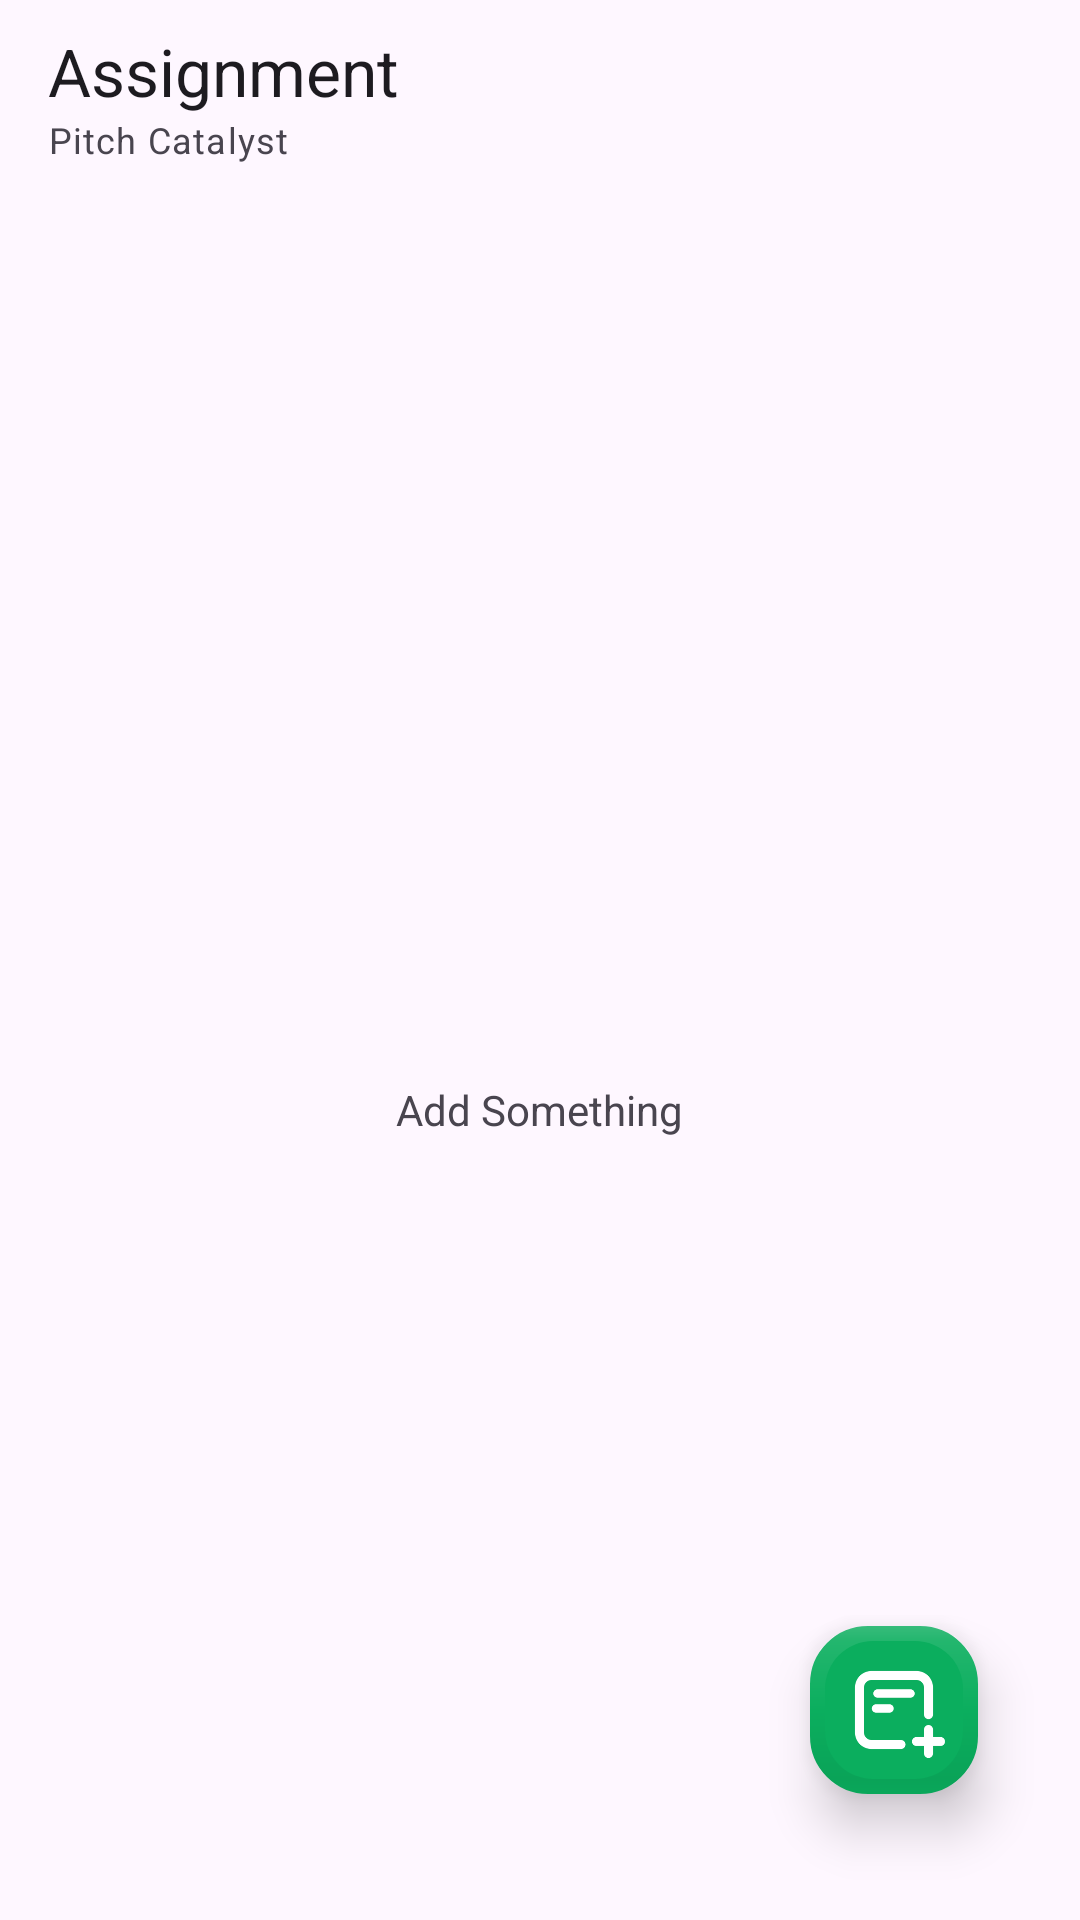

Named icons in this screenshot (1080 x 1920) and their bounding boxes, bbox=[x1, y1, x2, y2]:
add note: bbox=[810, 1626, 982, 1822]
